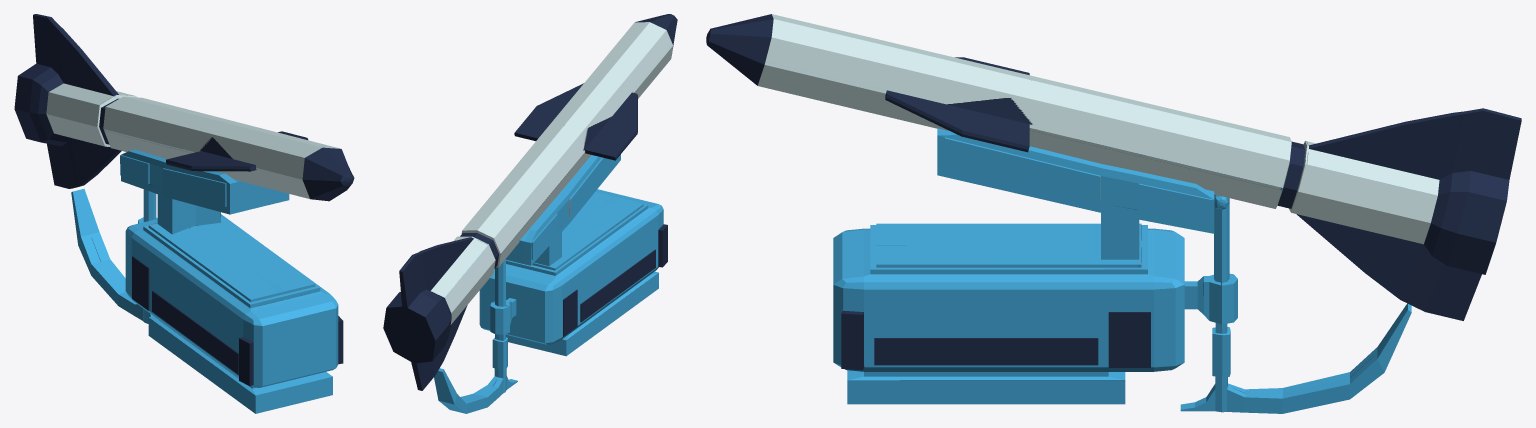
Rendered from missilelauncher.fbx.
3 renders of one model, left to right at view 1: azimuth 30°, elevation 25°; view 2: azimuth 150°, elevation 25°; view 3: azimuth 270°, elevation 25°, orthographic. The views are drawn at different scales.
Parts seen in each view (by area): view 1: missilelauncher; view 2: missilelauncher; view 3: missilelauncher.
Boxes of the visible parts, left/top/right/bottom form: missilelauncher: left=14, top=14, right=354, bottom=413; missilelauncher: left=383, top=14, right=677, bottom=413; missilelauncher: left=706, top=14, right=1521, bottom=413.
Bounding box in the file's own units: 55.66 × 136 × 258.
